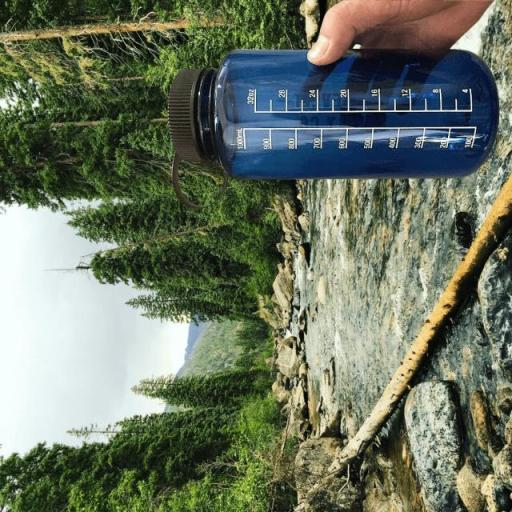bottle: (162, 40, 504, 212)
